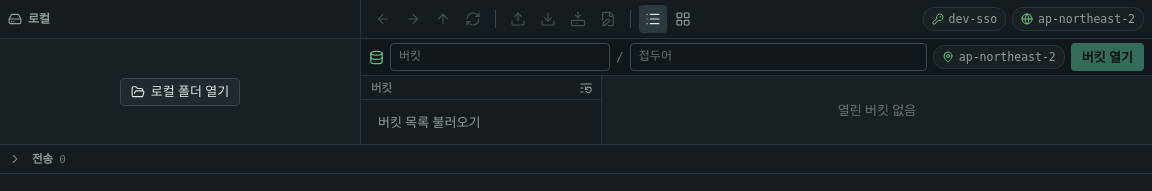
Scenario: 시스템·자격 증명 폴더는 루트로 쓰지 않고 상태만 표시한다
What coordinates should you click on to do the following:
click the button "로컬 폴더 열기"
I would click on:
 (180, 92)
Its box is top-left (120, 78), bottom-right (240, 106).
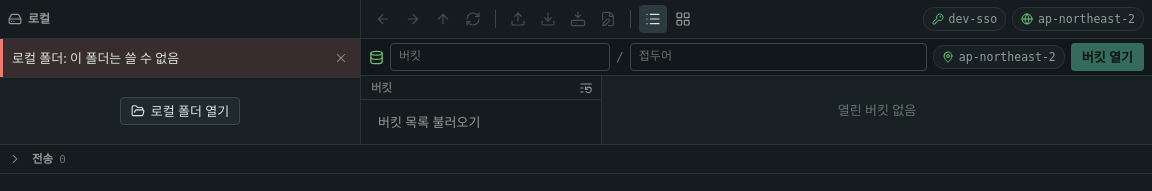
Check: the message "로컬 폴더: 이 폴더는 쓸 수 없음" is shown, box top-left (12, 49), bottom-right (179, 67)
